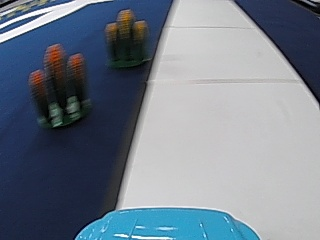corn: (27, 41, 90, 129), (103, 5, 151, 69)
